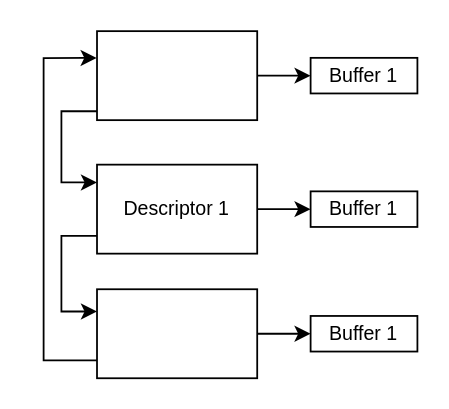
The diagram is 449 pixels wide and 409 high, and some of its shapes have lost their labels. The shapes that lost their labels are listed below. From the top down, each one's centre as x and y in pixels, then its label:
At pixel 176 74: "Descriptor 0".
At pixel 176 332: "Descriptor 2".
